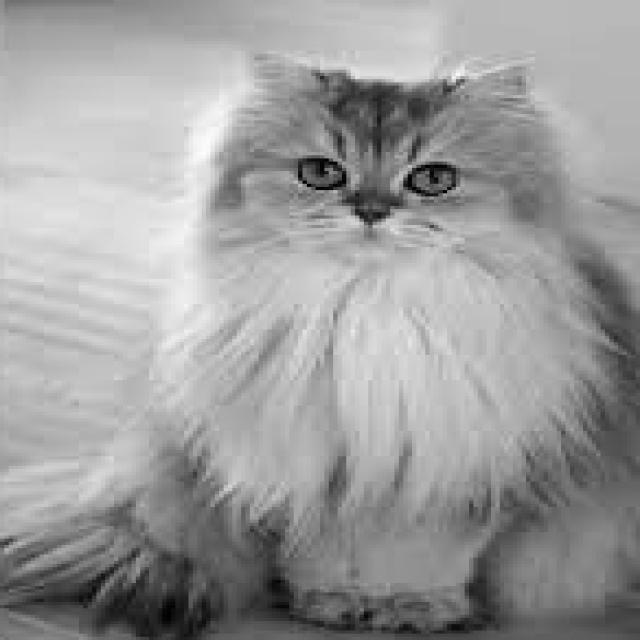british: (194, 36, 595, 276)
